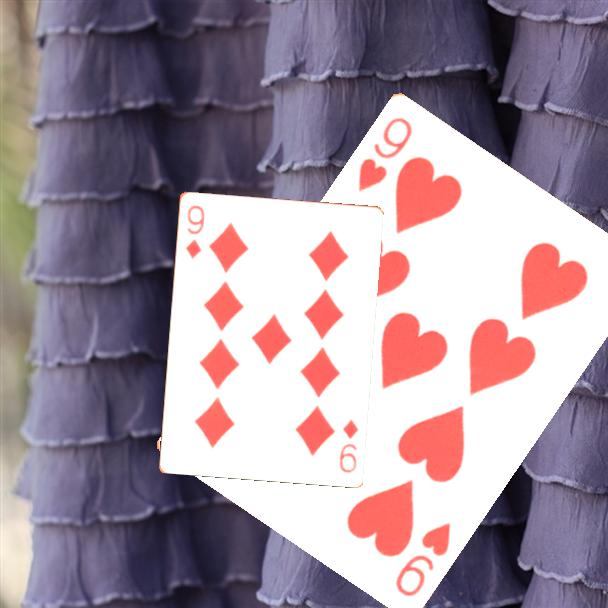d09: (182, 201, 207, 261), (336, 416, 361, 475)
h09: (391, 518, 454, 599), (354, 112, 416, 194)
